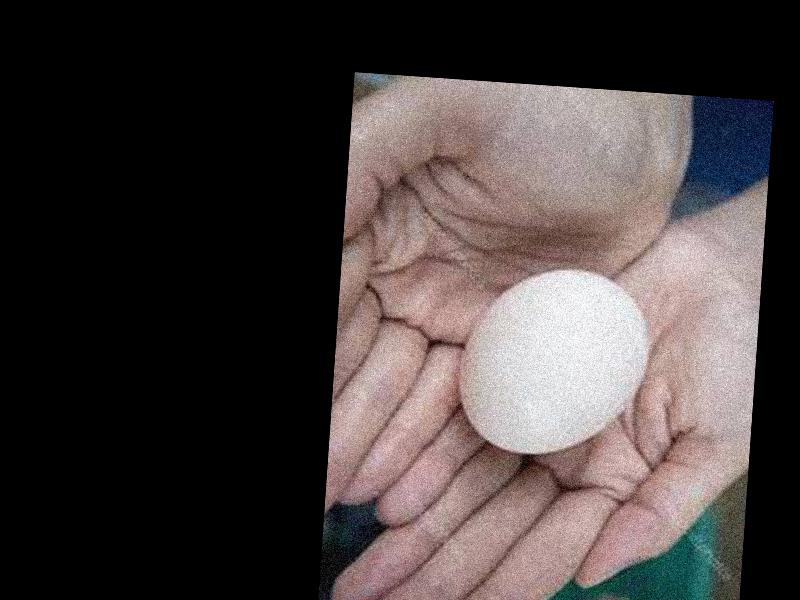Eggs: (459, 264, 648, 461)
